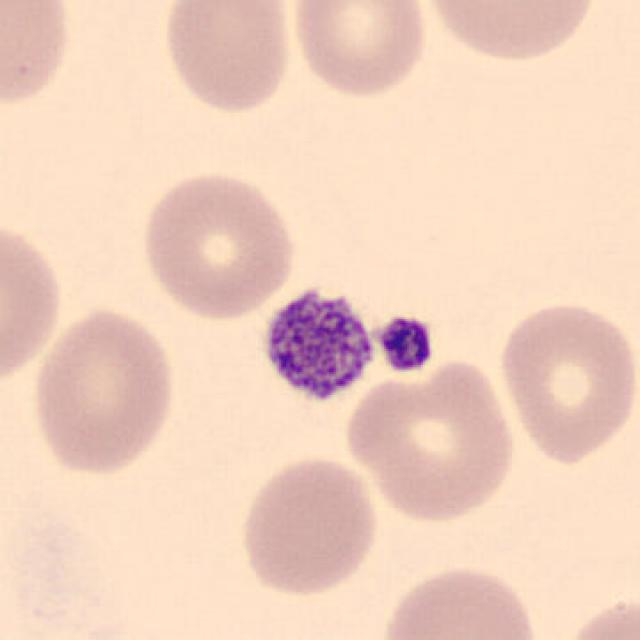Platelets: (254, 282, 380, 413), (375, 312, 437, 376)
RBC: (339, 356, 521, 527), (25, 302, 181, 479), (135, 166, 301, 324), (494, 294, 638, 468), (235, 452, 382, 602), (2, 497, 137, 640), (158, 0, 297, 118), (284, 0, 431, 102), (375, 560, 544, 640), (416, 0, 601, 67), (0, 212, 68, 393), (0, 0, 76, 114), (554, 590, 638, 640)
